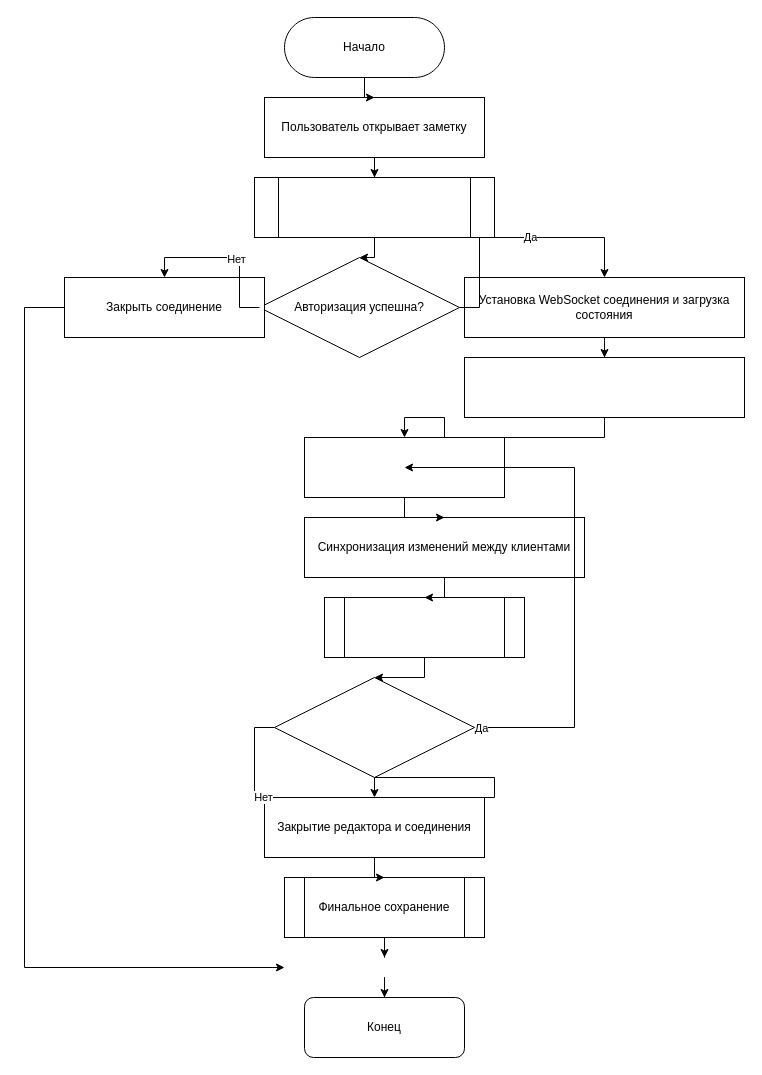
Image size: 762x1075. Some labels were removed from this diagram. Here are the shapes that lost their labels. From the top down, the centre of each, then its label:
point 374,207: Получение заметки и проверка авторизации
point 604,387: Инициализация редактора и отображение контента
point 404,467: Пользователь редактирует текст
point 424,627: Сохранение состояния
point 374,727: Продолжает редактировать?
